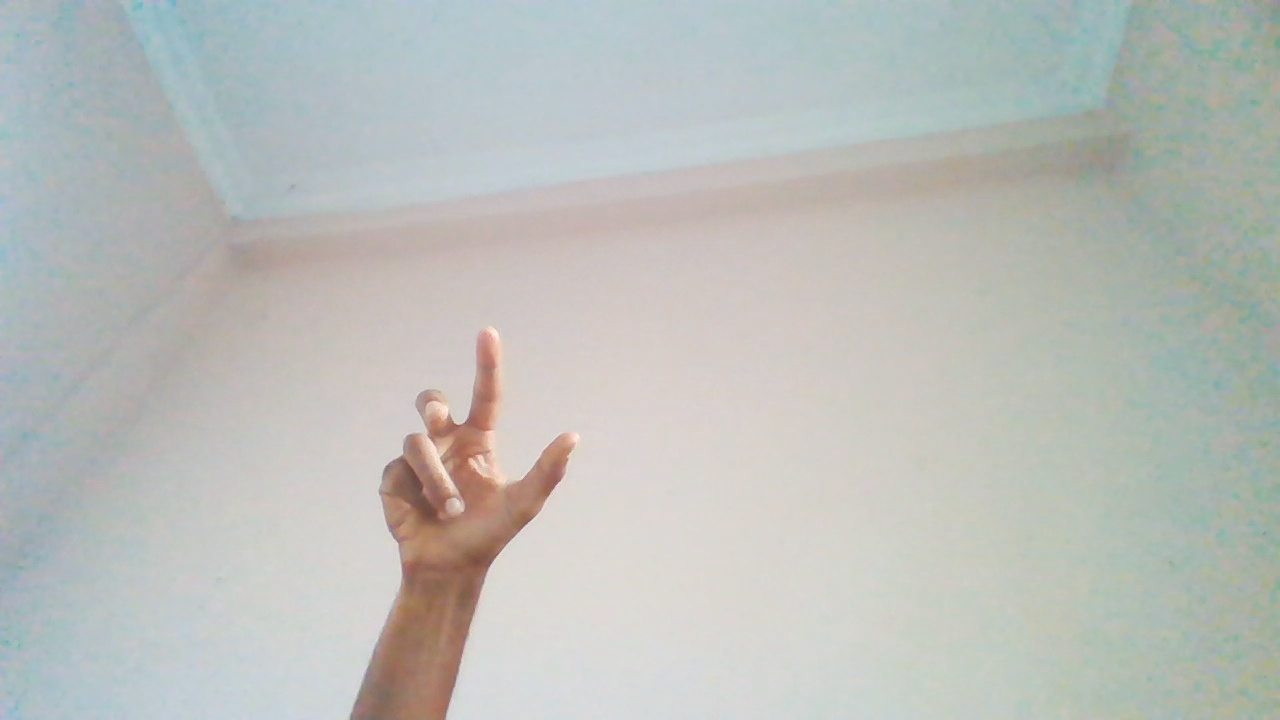hhe: (374, 332, 590, 665)
